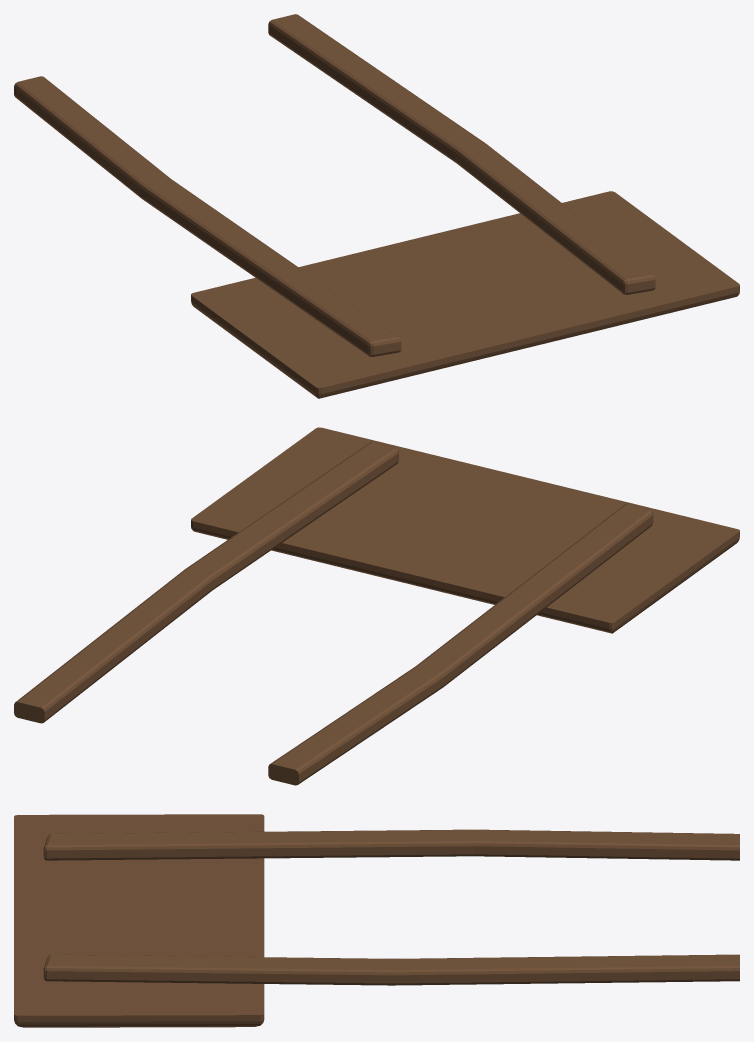
File: Panel_26.fbx
3 views of the same model, one above another, from view 1: azimuth 30°, elevation 25°; view 2: azimuth 150°, elevation 25°; view 3: azimuth 270°, elevation 25° (orthographic). The views are drawn at different scales.
Visible parts, largest first — view 1: Poteau géant 2*1 LOW.001; view 2: Poteau géant 2*1 LOW.001; view 3: Poteau géant 2*1 LOW.001.
Boxes of the visible parts, left/top/right/bottom form: Poteau géant 2*1 LOW.001: left=14, top=14, right=739, bottom=398; Poteau géant 2*1 LOW.001: left=14, top=427, right=739, bottom=785; Poteau géant 2*1 LOW.001: left=14, top=814, right=739, bottom=1027.
Bounding box in the file's own units: 167 × 12.04 × 254.
